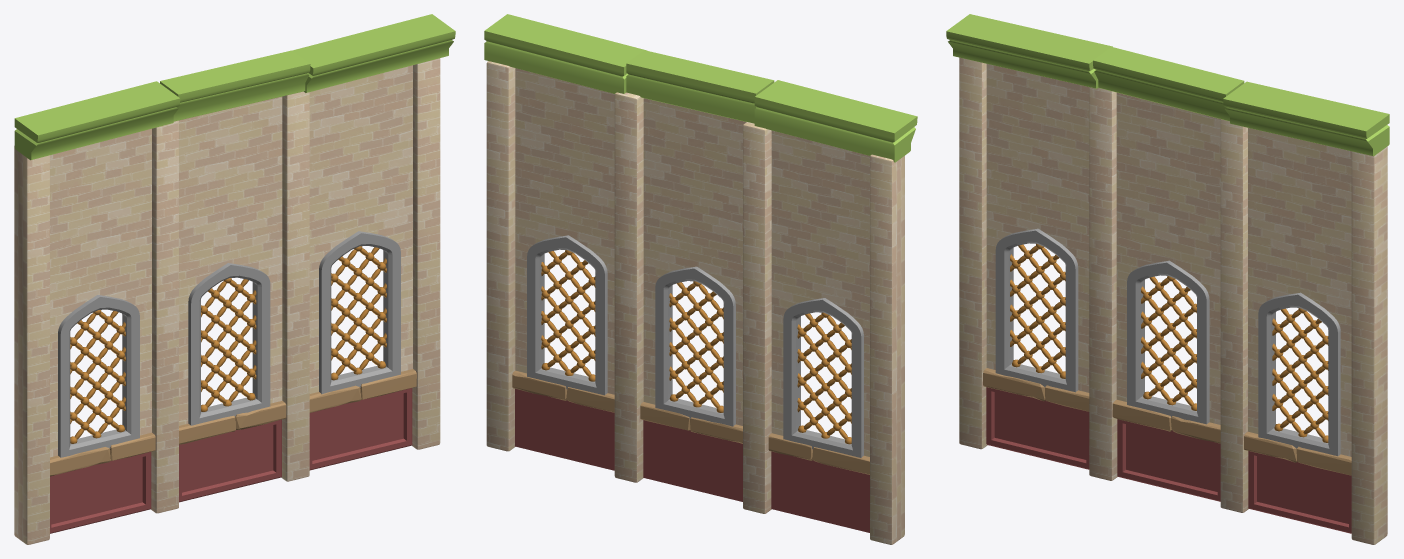
Rendered from SM_wall_d_window.fbx.
3 views of the same model, side by side, from view 1: azimuth 30°, elevation 25°; view 2: azimuth 150°, elevation 25°; view 3: azimuth 330°, elevation 25° (orthographic). The views are drawn at different scales.
Parts seen in each view (by area): view 1: attachment_desertkingdom001; view 2: attachment_desertkingdom001; view 3: attachment_desertkingdom001.
Part boxes in pixels (x1=…): attachment_desertkingdom001: x1=14, y1=14, x2=455, y2=544; attachment_desertkingdom001: x1=484, y1=14, x2=917, y2=544; attachment_desertkingdom001: x1=946, y1=14, x2=1389, y2=544.
Size of the model in its own units: 215 by 208 by 22.44.
